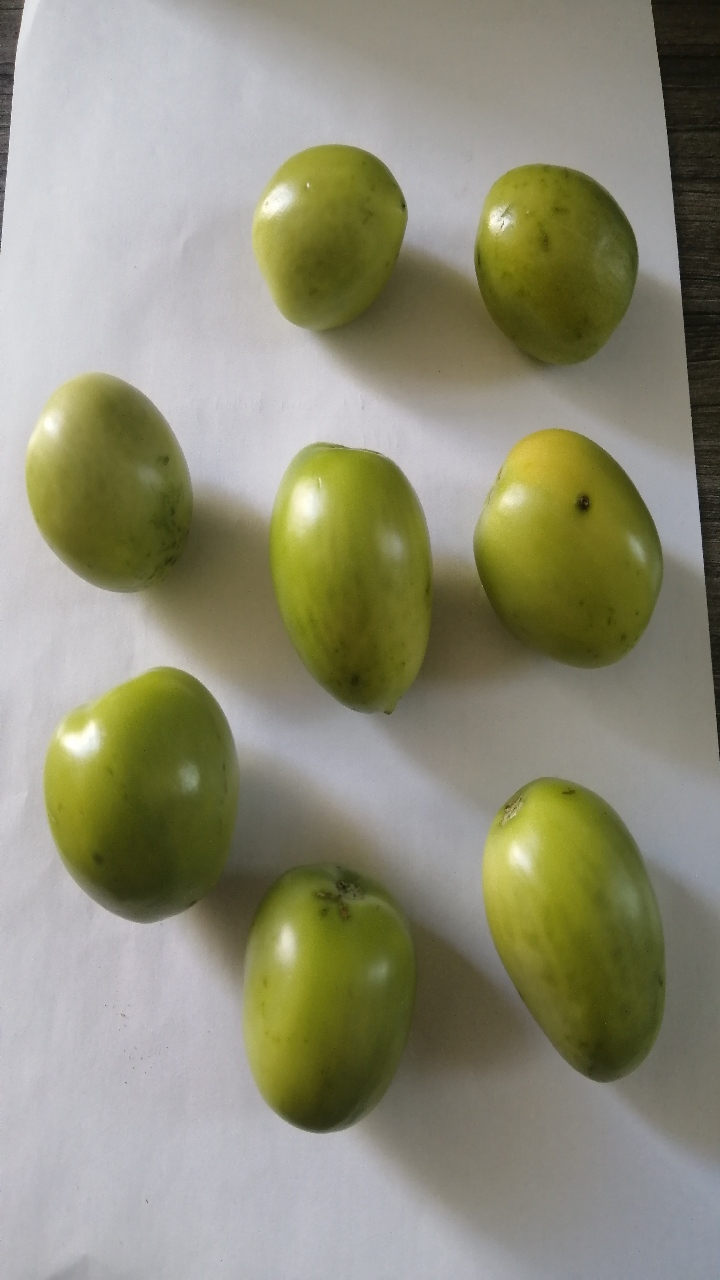tomateVerde: (251, 419, 478, 739), (464, 763, 674, 1108), (217, 857, 451, 1157), (461, 405, 686, 705), (29, 654, 260, 937), (235, 102, 437, 352), (12, 360, 208, 612), (457, 142, 654, 379)
